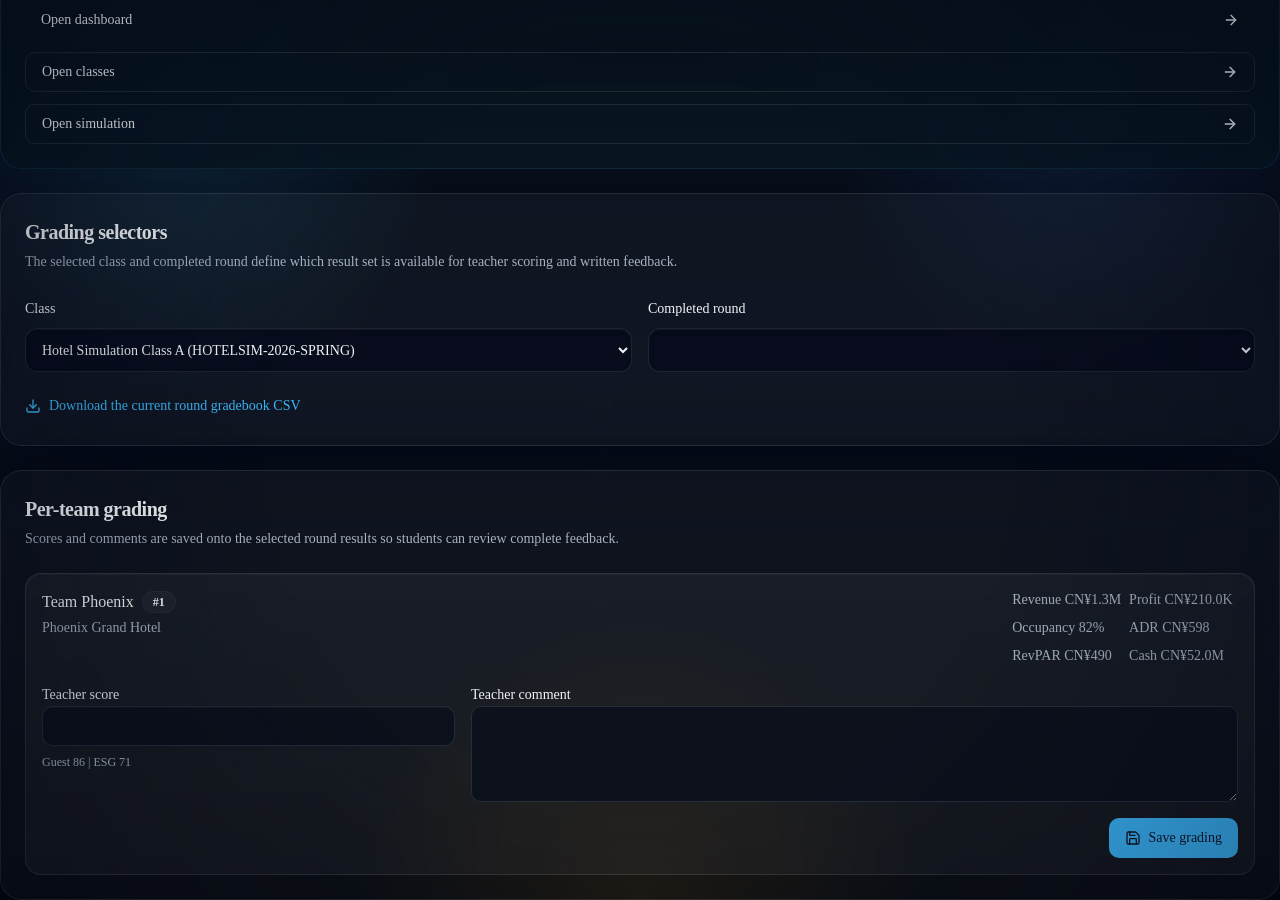
Scenario: TeacherGradingPanel › loads grading data and saves teacher feedback through the live API client
(page scrolled)
Expected: the button "Save grading" is shown, [1108,818,1238,858]
Step 1. Type "87.5" into the number field labelled "Teacher score" → (248, 726), box [42,706,455,746]
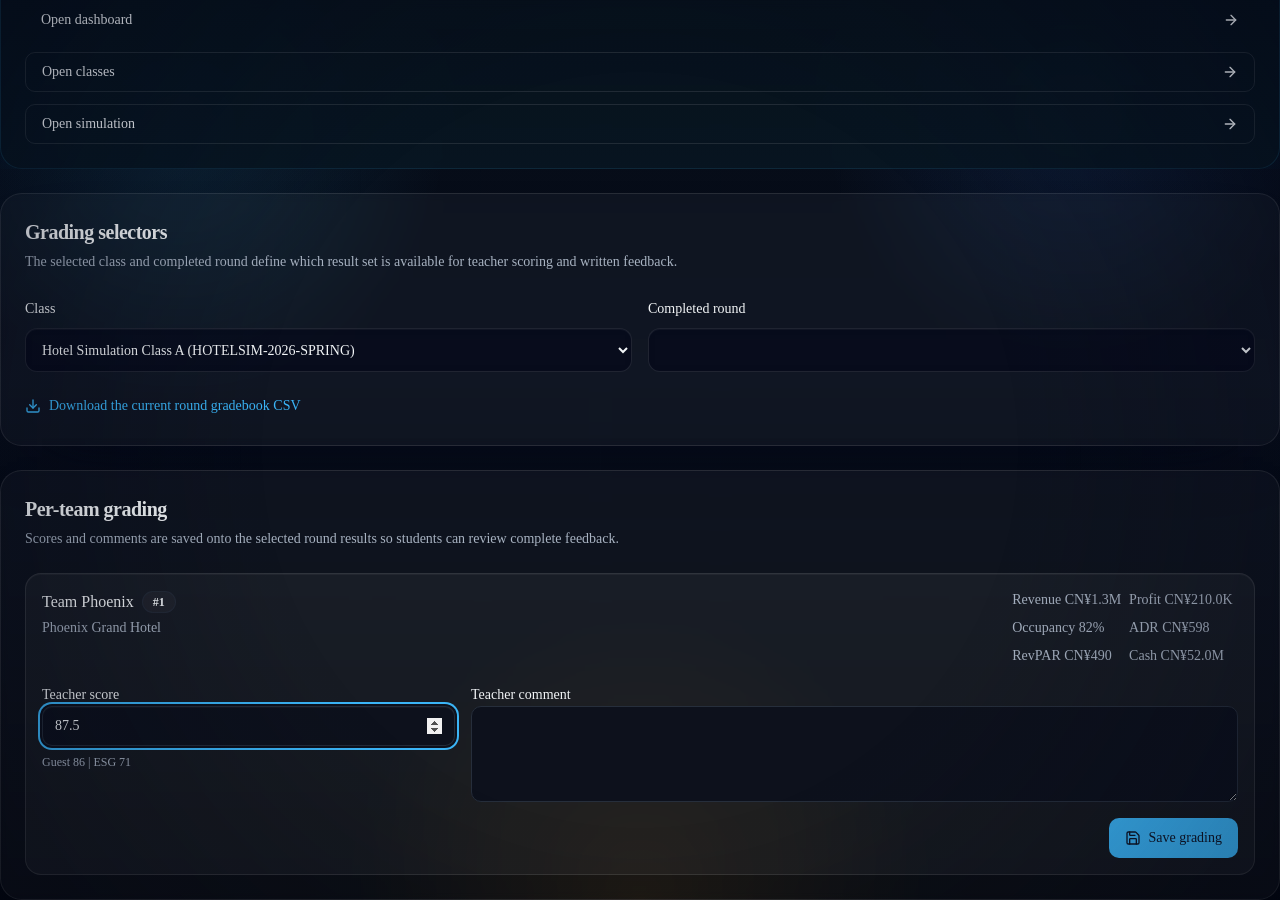
Step 2. Type "Strong recovery this round." into the text box labelled "Teacher comment" → (854, 754), box [471,706,1238,802]
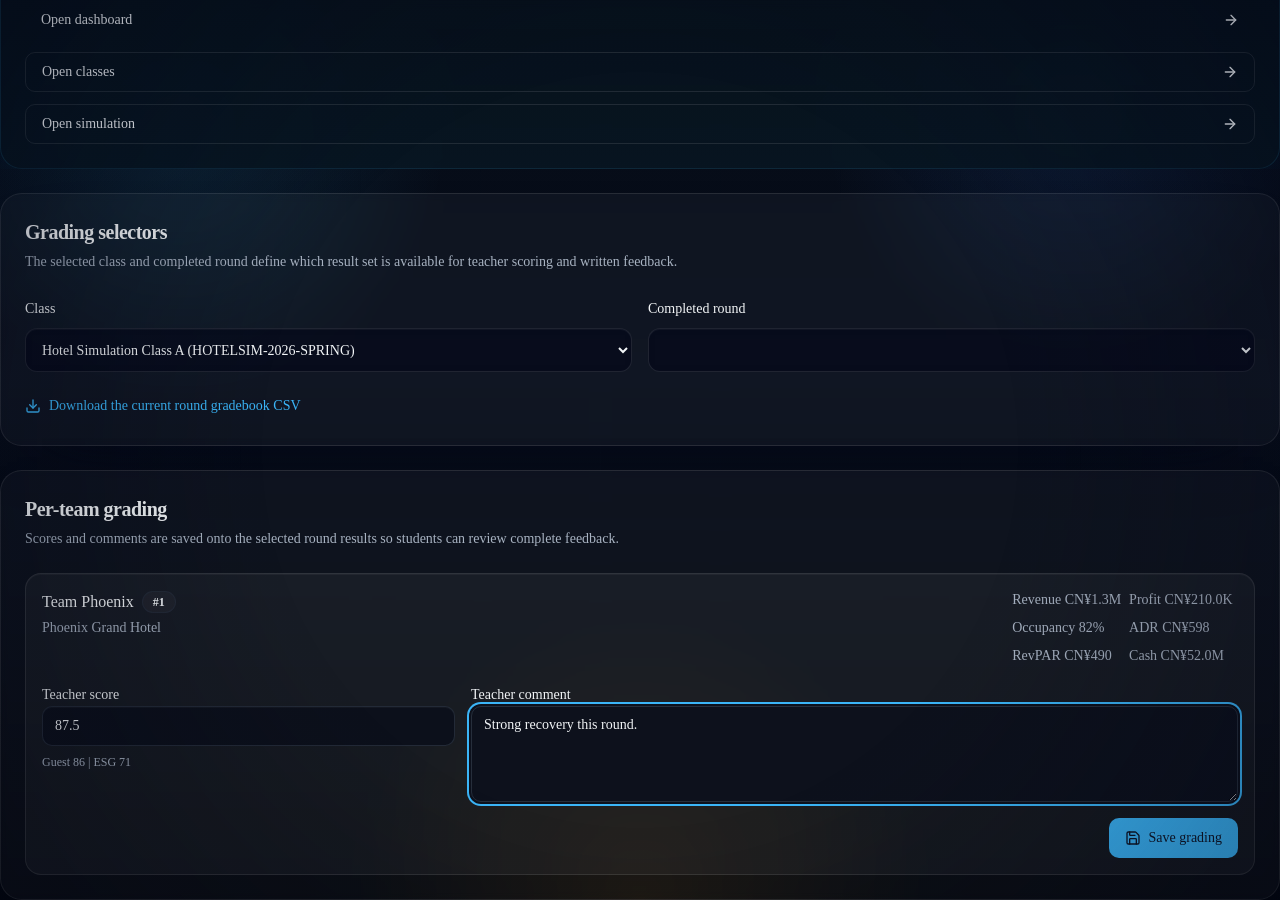
Step 3. Click the button "Save grading" → (1173, 838), box [1108,818,1238,858]
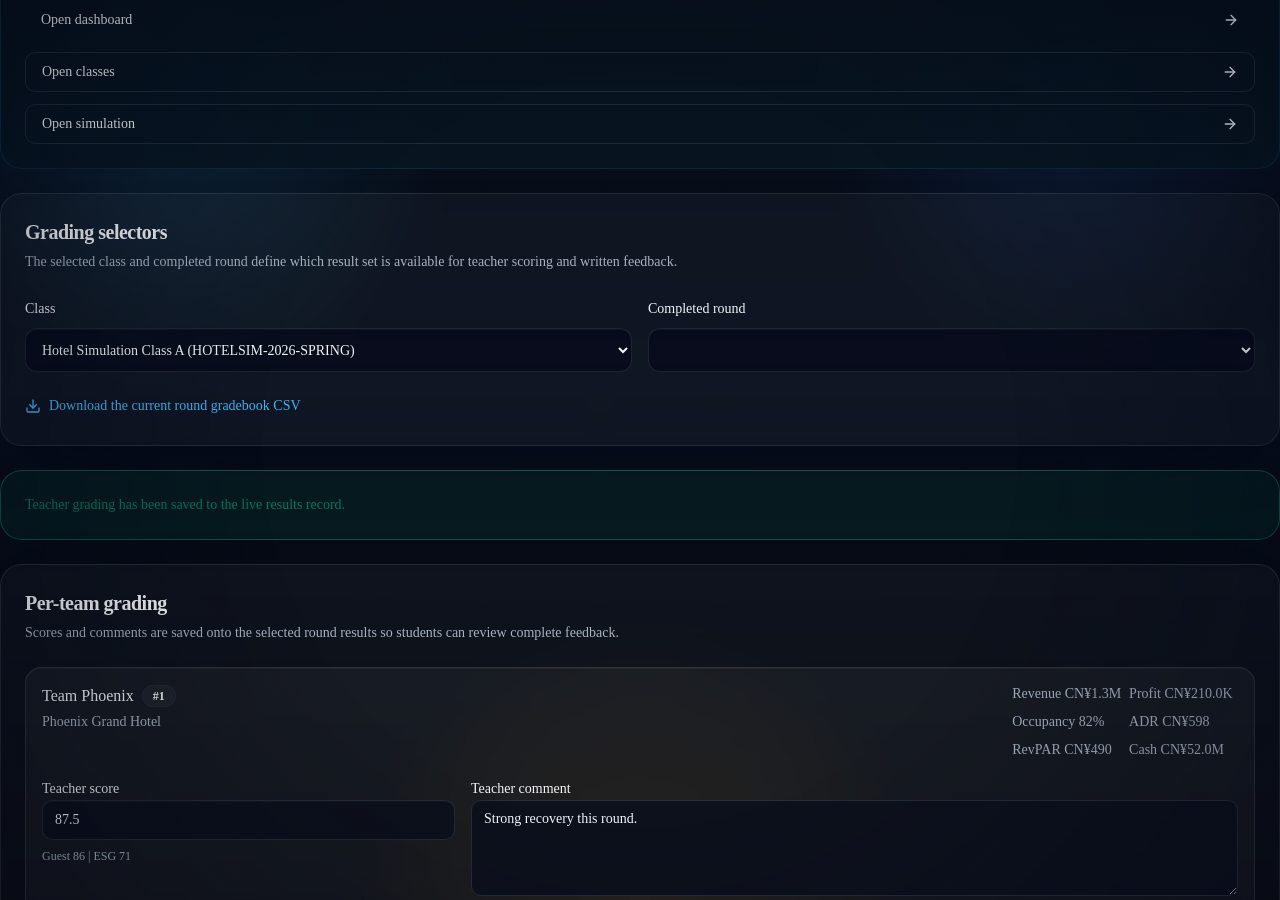
Result: the text "Teacher grading has been saved to the live results record." is shown at [25,497,345,512]
